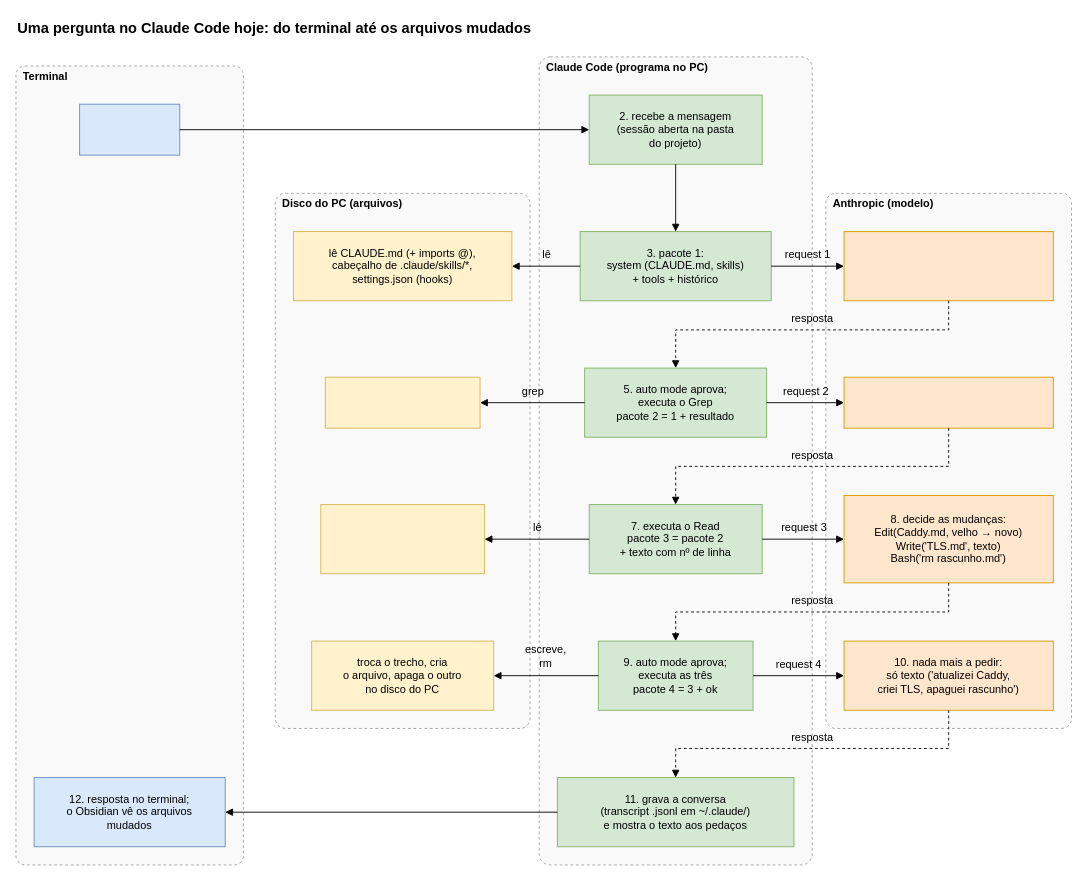
Image size: 1087x881. Some labels were removed from this diagram. The centre of each missing label's shape, as x and y in pixels:
"1. mensagem no terminal" goes at point 129,129.
"4. modelo entende a pergunta e não tem o arquivo: tool_use Grep('caddy')" goes at point 948,266.
"6. já sabe o caminho: tool_use Read('.../Caddy.md')" goes at point 948,402.
"abre o arquivo (hook leitura confere o tamanho antes)" goes at point 402,539.
"grep em ai/obsidian/ → '.../Caddy.md:12'" goes at point 402,402.
